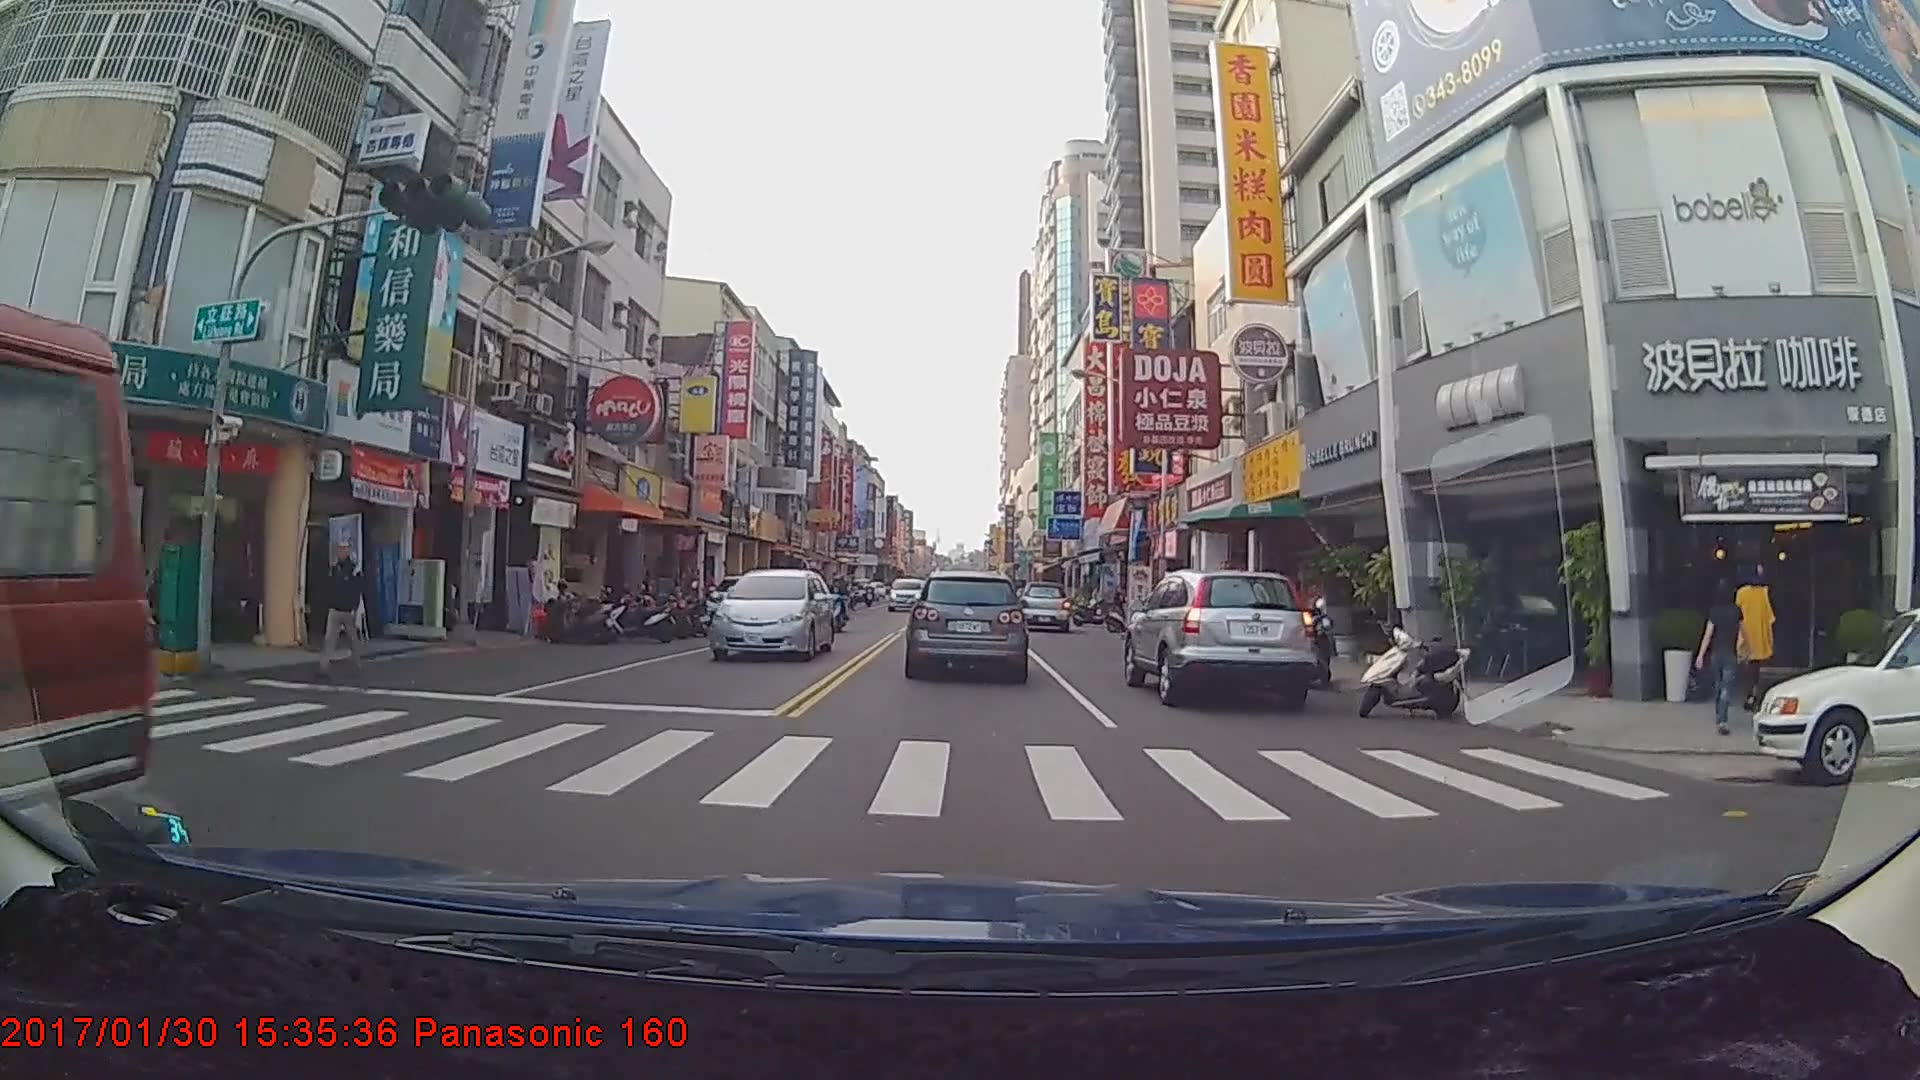pedestrian: (1697, 577, 1750, 737), (315, 537, 368, 675), (1732, 567, 1780, 709)
vehicle: (1, 269, 152, 1066), (1748, 604, 1920, 787), (1122, 566, 1317, 710), (906, 569, 1026, 678), (709, 565, 838, 662), (1014, 580, 1068, 631), (885, 577, 925, 613)
